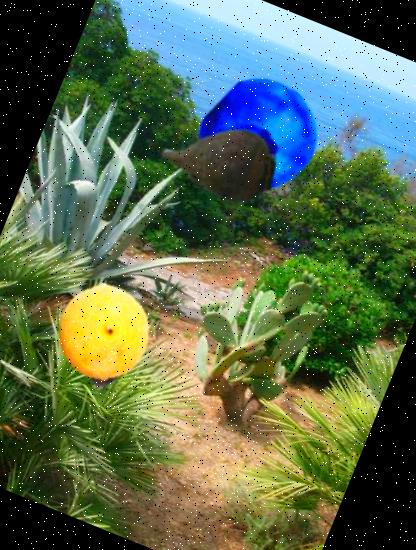Beetroot: (140, 84, 296, 239)
Cantaloupe: (41, 268, 166, 394)
Chestnut: (40, 278, 162, 401)
Huckleberry: (184, 61, 334, 212)
